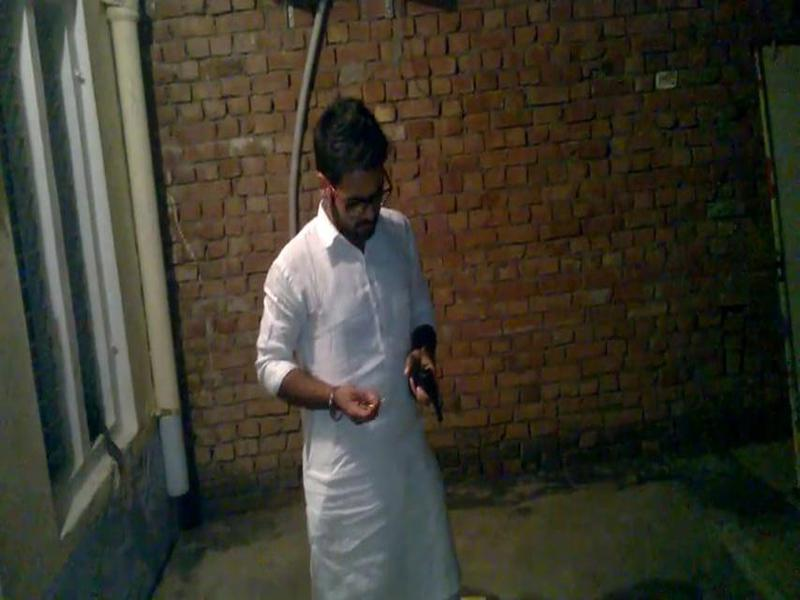Revolver: (397, 337, 454, 438)
